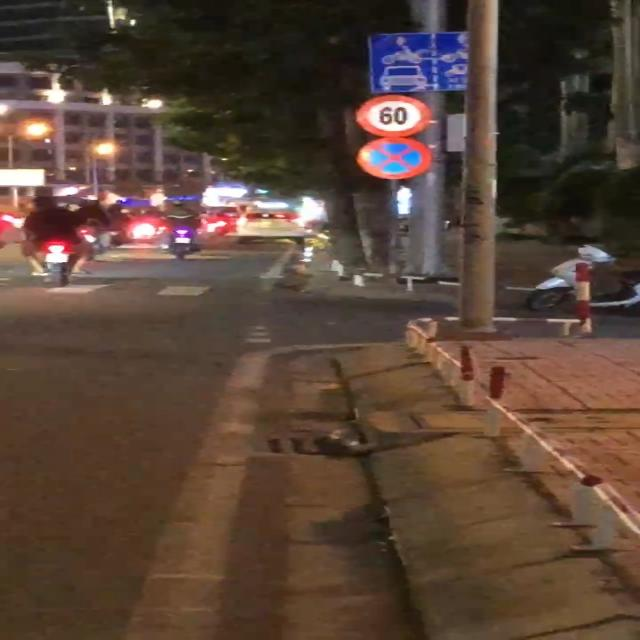Bien bao cam dung xe va do xe: (352, 136, 442, 182)
Bien bao toc do toi da cho phep: (356, 94, 435, 136)
